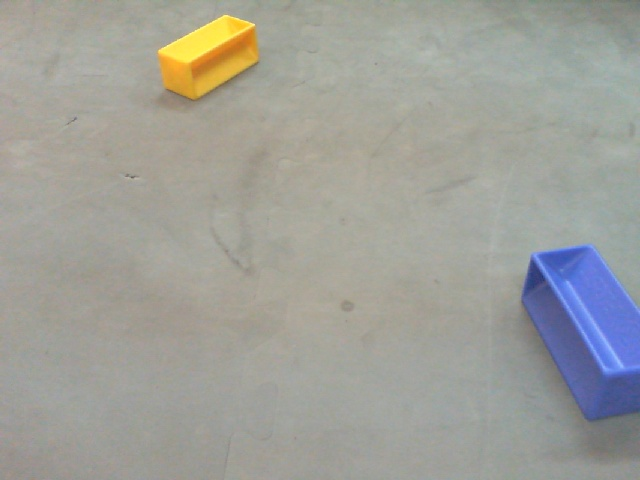BlueSample: (520, 232, 640, 426)
YellowSample: (155, 12, 265, 103)
